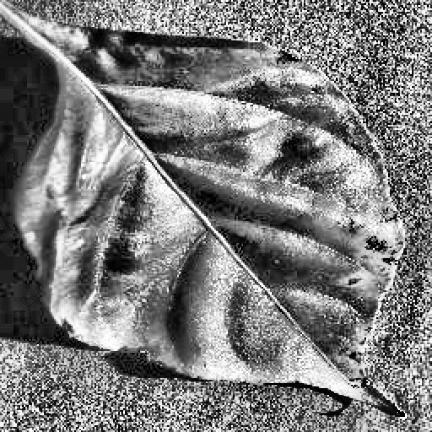leaf: (0, 2, 403, 415)
